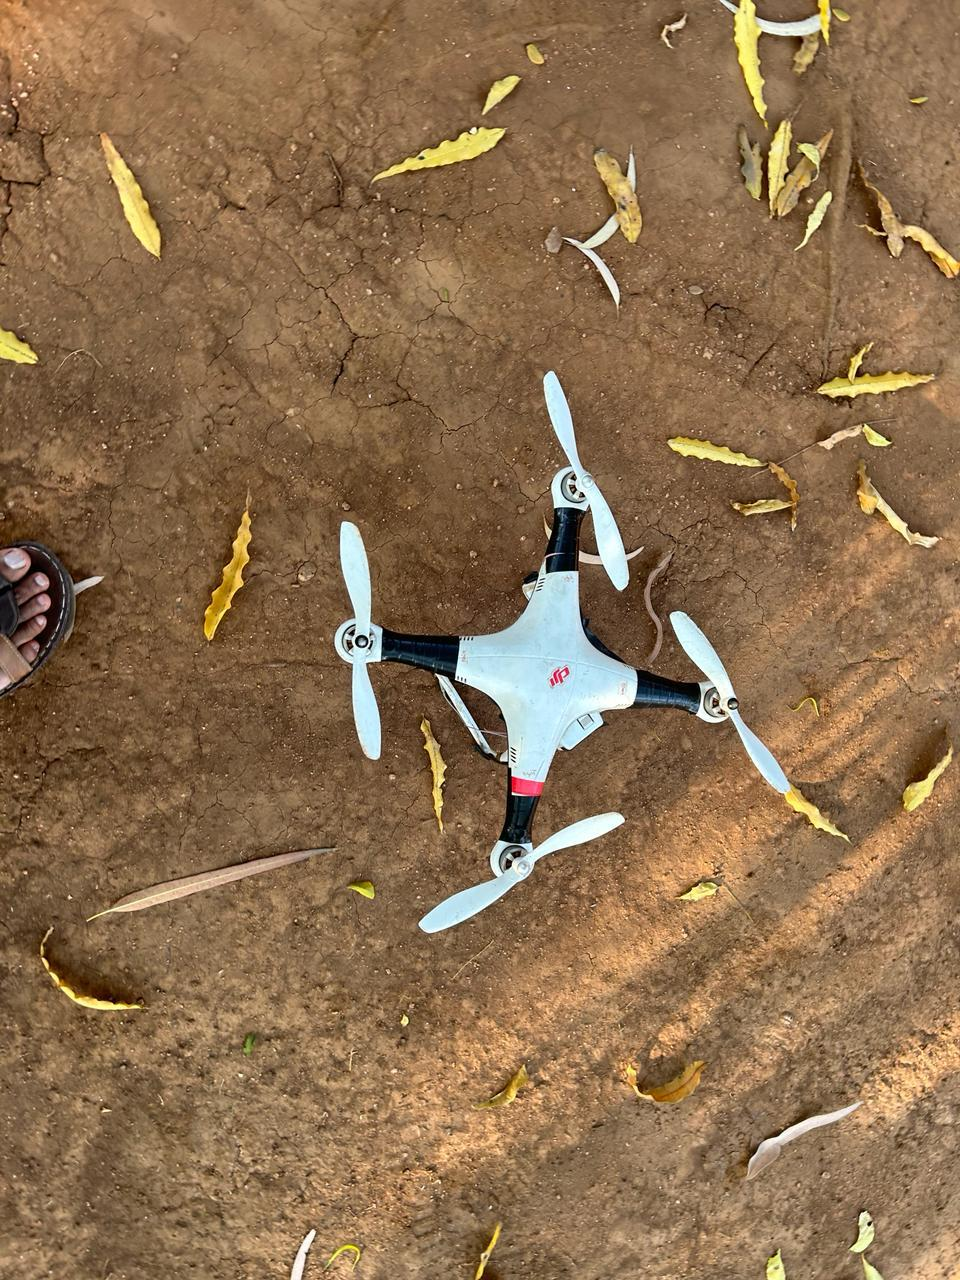drone: (208, 221, 876, 1127)
